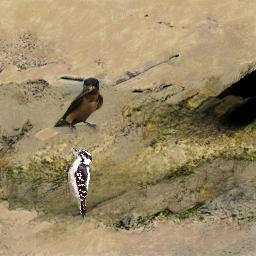Swallow: (53, 77, 103, 134)
Woodpecker: (64, 147, 93, 220)
